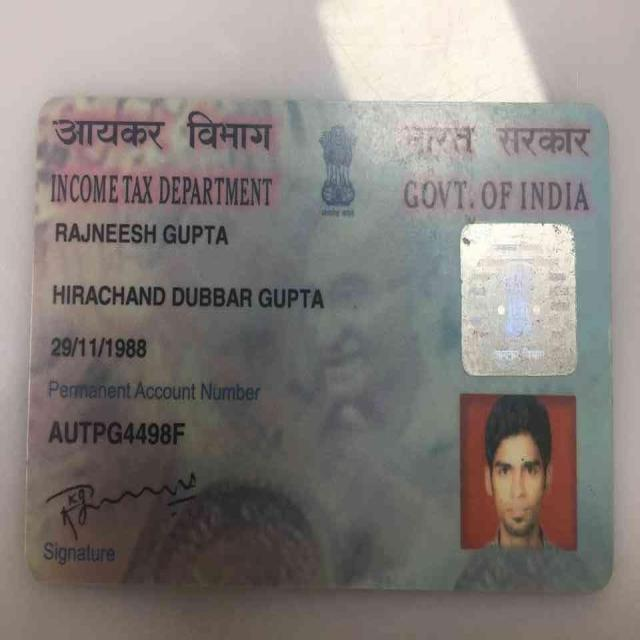pan_card: (34, 100, 610, 583)
